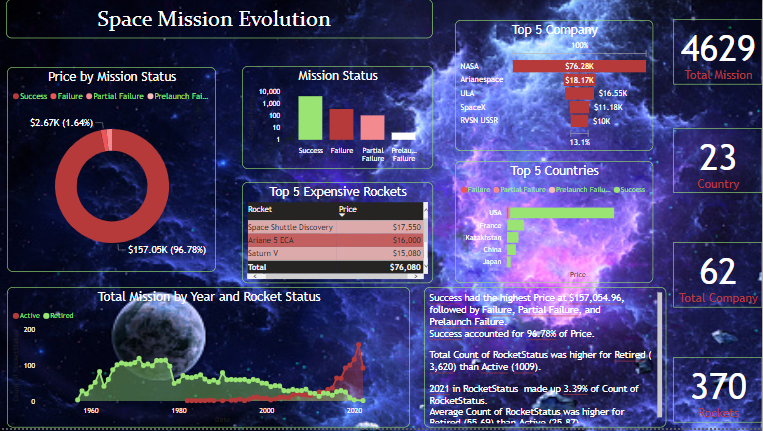

The page's visual inventory and layout, read from the dashboard file:
{"tool":"powerbi","page":{"name":"Page 1","canvas":[1280,720],"ordinal":0},"visuals":[{"type":"textbox","box":[10.1,0,717.3,65.5],"z":0},{"type":"card","fields":{"Values":["space_missions (2).Total Mission"]},"box":[1130.5,33.6,149.5,110],"z":1000},{"type":"card","fields":{"Values":["space_missions (2).Country"]},"box":[1130.5,216.7,149.5,109.2],"z":2000},{"type":"card","fields":{"Values":["space_missions (2).Rockets"]},"box":[1130.5,601.4,149.5,110],"z":3000},{"type":"donutChart","title":"Price by Mission Status ","fields":{"Category":["space_missions (2).MissionStatus"],"Y":["Sum(space_missions (2).Price)"]},"box":[11.8,114.2,351.1,344.4],"z":4000},{"type":"areaChart","title":"Total Mission by Year and Rocket Status","fields":{"Series":["space_missions (2).RocketStatus"],"Category":["space_missions (2).Date"],"Y":["CountNonNull(space_missions (2).RocketStatus)"]},"box":[11.8,483.8,677,236],"z":5000},{"type":"funnel","title":"Top 5 Company","fields":{"Category":["space_missions (2).Company"],"Y":["Sum(space_missions (2).Price)"]},"box":[764.3,35.3,332.6,220.1],"z":6000},{"type":"tableEx","title":"Top 5 Expensive Rockets ","fields":{"Values":["space_missions (2).Rocket","Sum(space_missions (2).Price)"]},"box":[406.5,307.4,320.8,169.7],"z":7000},{"type":"columnChart","title":"Mission Status","fields":{"Category":["space_missions (2).MissionStatus"],"Y":["CountNonNull(space_missions (2).MissionStatus)"]},"box":[406.5,112.5,320.8,173],"z":8000},{"type":"card","fields":{"Values":["space_missions (2).Total Company"]},"box":[1130.5,408.2,149.5,110],"z":9000},{"type":"barChart","title":" Top 5 Countries  ","fields":{"Category":["space_missions (2).Country "],"Y":["Sum(space_missions (2).Price)"],"Series":["space_missions (2).MissionStatus"]},"box":[764.3,272.1,332.6,204.9],"z":10000},{"type":"textbox","box":[712.2,483.8,406.5,236],"z":11000}]}

Visuals, with their boxes in screenshot pixels (x1, y1, x2, y2), scaled from the page's 1280x720 canvas onto the 763x431 screenshot:
textbox: [6, 0, 434, 39]
card - space_missions (2).Total Mission: [674, 20, 762, 86]
card - space_missions (2).Country: [674, 130, 762, 195]
card - space_missions (2).Rockets: [674, 360, 762, 426]
"Price by Mission Status " donutChart: [7, 68, 216, 275]
"Total Mission by Year and Rocket Status" areaChart: [7, 290, 411, 430]
"Top 5 Company" funnel: [456, 21, 654, 153]
"Top 5 Expensive Rockets " tableEx: [242, 184, 434, 286]
"Mission Status" columnChart: [242, 67, 434, 171]
card - space_missions (2).Total Company: [674, 244, 762, 310]
" Top 5 Countries  " barChart: [456, 163, 654, 286]
textbox: [425, 290, 667, 430]
